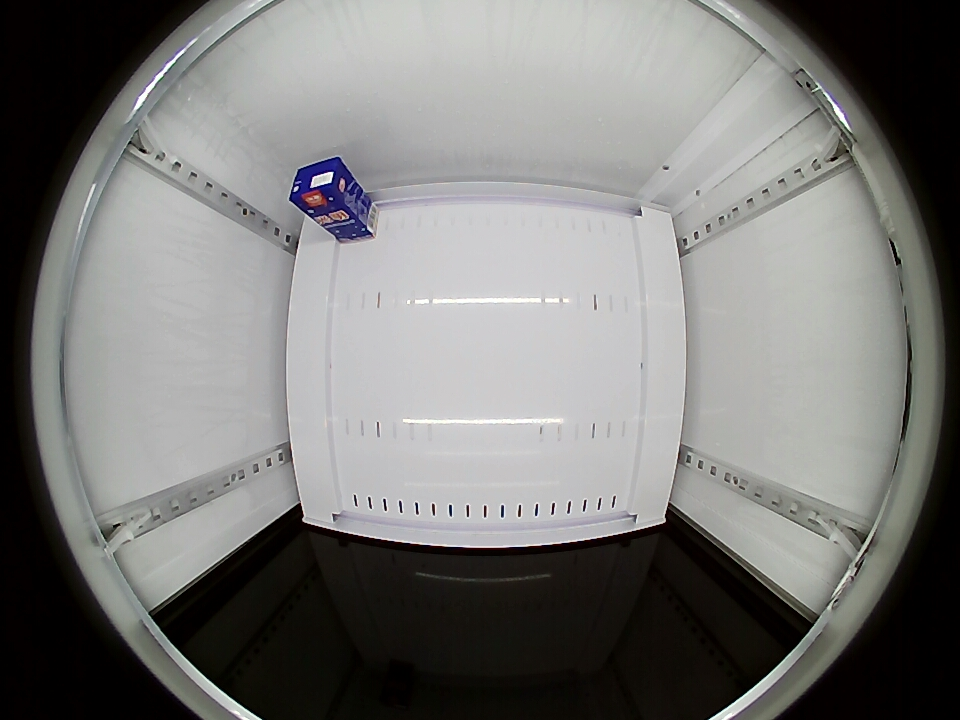bingqilinniunai: (288, 156, 355, 217)
